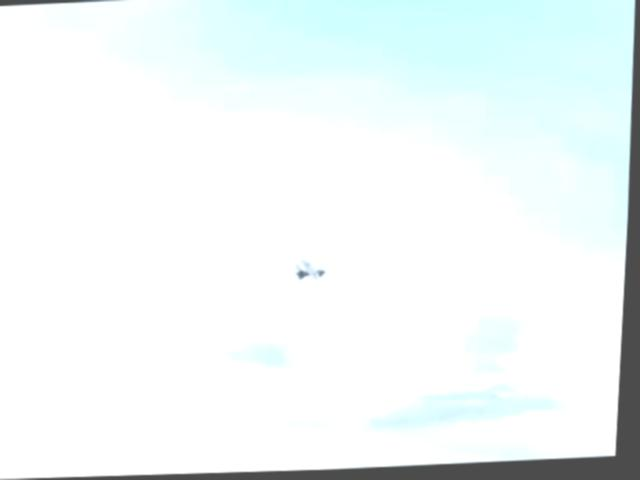uav: (293, 254, 336, 291)
